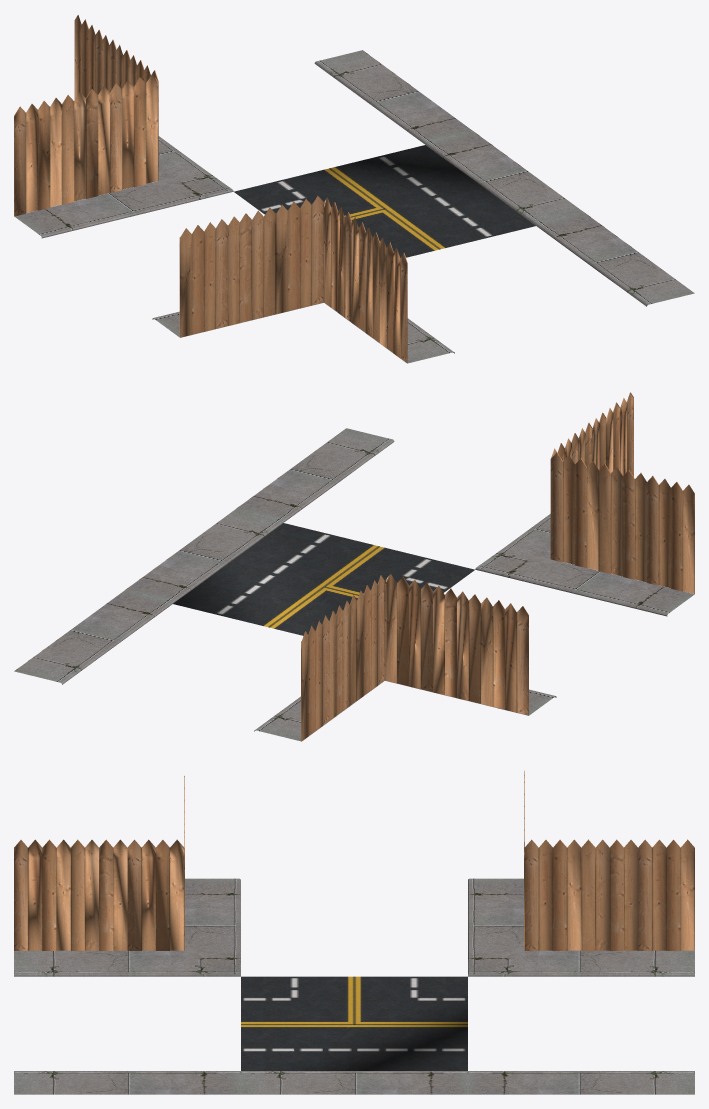
The model's file is road_intersection_fence_1_0_1.obj.
The picture shows the model from 3 angles, top to bottom: view 1: azimuth 30°, elevation 25°; view 2: azimuth 150°, elevation 25°; view 3: azimuth 270°, elevation 25°; orthographic projection. The views are drawn at different scales.
Parts seen in each view (by area): view 1: ROAD_TILE_Plane.016; view 2: ROAD_TILE_Plane.016; view 3: ROAD_TILE_Plane.016.
Boxes of the visible parts, x1,y1,x2,y2 form: ROAD_TILE_Plane.016: (14,15,694,363); ROAD_TILE_Plane.016: (14,392,694,741); ROAD_TILE_Plane.016: (14,770,694,1094).
Size of the model in its own units: 45.01 by 11.01 by 60.01.
